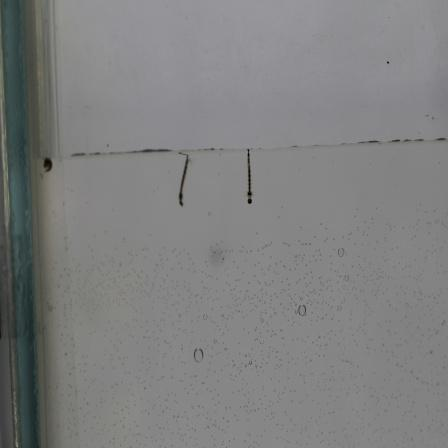Jentik-Nyamuk: (173, 152, 192, 210), (240, 148, 257, 208)
